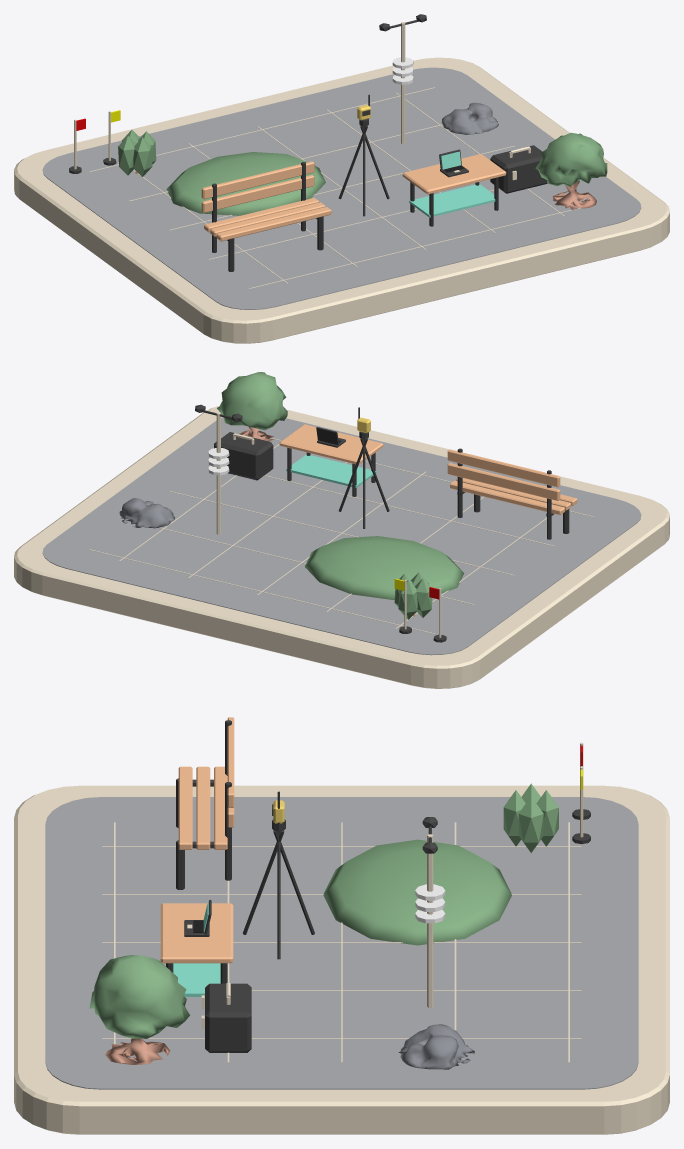
3 renders of one model, top to bottom at view 1: azimuth 30°, elevation 25°; view 2: azimuth 150°, elevation 25°; view 3: azimuth 270°, elevation 25°, orthographic. The views are drawn at different scales.
Parts seen in each view (by area): view 1: COM-02 Floor Surface, COM-01 Rounded Base Direct, Low terrain, 둥근 수관 나무, Worktop, Case, Lower shelf, 둥근 강돌 무리, Back slat.001, Back slat, Seat slat, Seat slat.002 (+4 smaller); view 2: COM-02 Floor Surface, COM-01 Rounded Base Direct, Low terrain, 둥근 수관 나무, Worktop, Case, Lower shelf, Back slat.001, Back slat, 둥근 강돌 무리, Seat slat.002, Seat slat.001 (+4 smaller); view 3: COM-02 Floor Surface, COM-01 Rounded Base Direct, Low terrain, 둥근 수관 나무, Worktop, Case, 둥근 강돌 무리, Seat slat, Seat slat.001, Lower shelf, Leaf, Seat slat.002 (+4 smaller).
Part boxes in pixels (x1,y1,x2,y2): COM-02 Floor Surface: (42,67,641,309); COM-01 Rounded Base Direct: (14,57,669,343); Low terrain: (166,152,325,215); 둥근 수관 나무: (535,132,607,209); Worktop: (402,154,506,194); Case: (490,145,547,193); Lower shelf: (409,184,499,217); 둥근 강돌 무리: (441,102,498,134); Back slat.001: (201,161,314,199); Back slat: (201,175,314,212); Seat slat: (216,207,331,241); Seat slat.002: (204,197,319,232); COM-02 Floor Surface: (42,417,641,655); COM-01 Rounded Base Direct: (14,405,669,688); Low terrain: (304,536,464,599); 둥근 수관 나무: (217,372,287,441); Worktop: (279,424,383,464); Case: (214,432,273,480); Lower shelf: (286,454,376,487); Back slat.001: (447,449,560,487); Back slat: (447,463,560,500); 둥근 강돌 무리: (119,498,174,528); Seat slat.002: (450,480,564,514); Seat slat.001: (456,478,571,510); COM-02 Floor Surface: (45,797,638,1089); COM-01 Rounded Base Direct: (14,785,669,1134); Low terrain: (323,839,511,945); 둥근 수관 나무: (89,955,189,1064); Worktop: (160,903,233,963); Case: (205,983,251,1052); 둥근 강돌 무리: (398,1024,474,1069); Seat slat: (178,766,192,849); Seat slat.001: (196,766,210,849); Lower shelf: (173,963,220,996); Leaf: (518,796,543,852); Seat slat.002: (214,766,227,849).
Bounding box in the file's own units: 6 × 1.85 × 5.2.
1 material, 1 textured.
